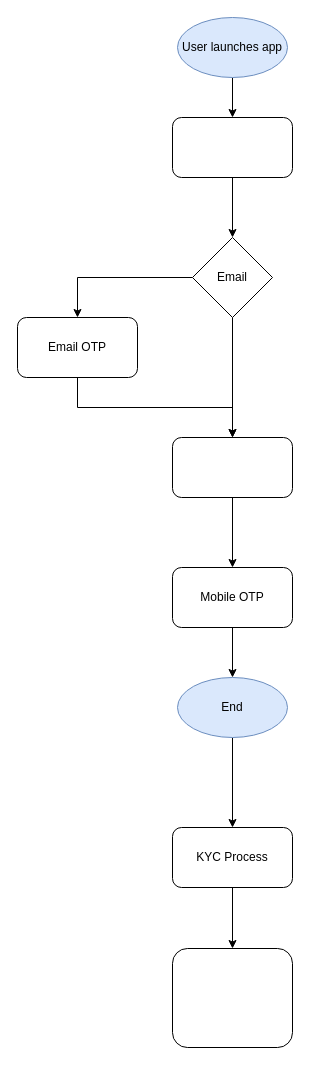
Image size: 310x1065. Some labels were removed from this diagram. The centre of each missing label's shape, as x and y in pixels:
"Mobile Number Form" goes at [232,467].
"Navigation Map tool that receive address and opens default navigation app" goes at [232,998].
"User sign up with google or apple or email" goes at [232,147].
